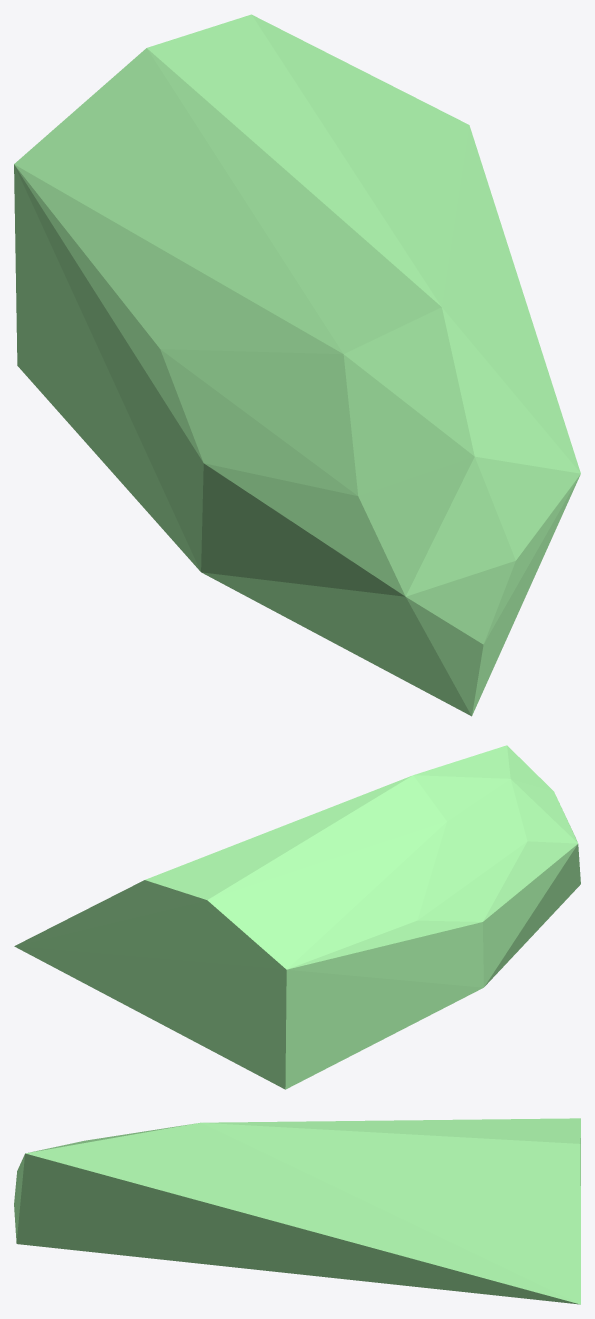
Rendered from panda_link7_resp_coll_5.dae.
3 renders of one model, top to bottom at view 1: azimuth 30°, elevation 25°; view 2: azimuth 150°, elevation 25°; view 3: azimuth 270°, elevation 25°, orthographic. The views are drawn at different scales.
Visible parts, largest first — view 1: node; view 2: node; view 3: node.
Part boxes in pixels (x1,y1,x2,y2): node: [14, 14, 580, 716]; node: [14, 745, 580, 1089]; node: [14, 1118, 580, 1304].
Size of the model in its own units: 0.0831 by 0.0442 by 0.1303.
